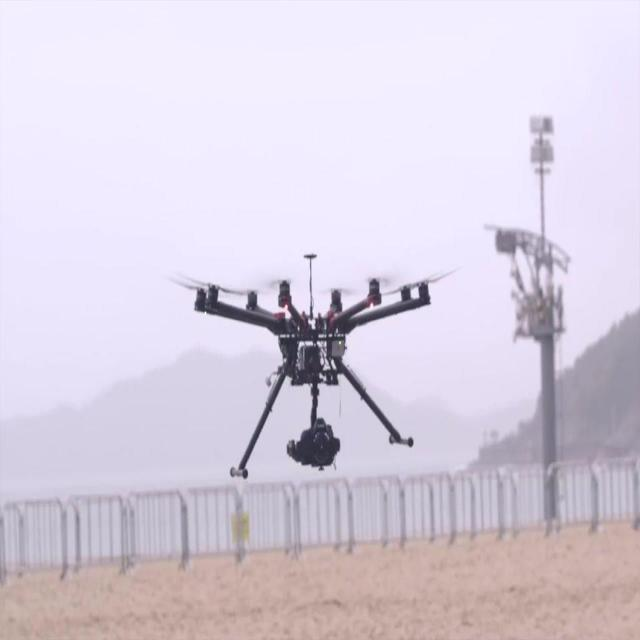UAV: (171, 250, 457, 480)
